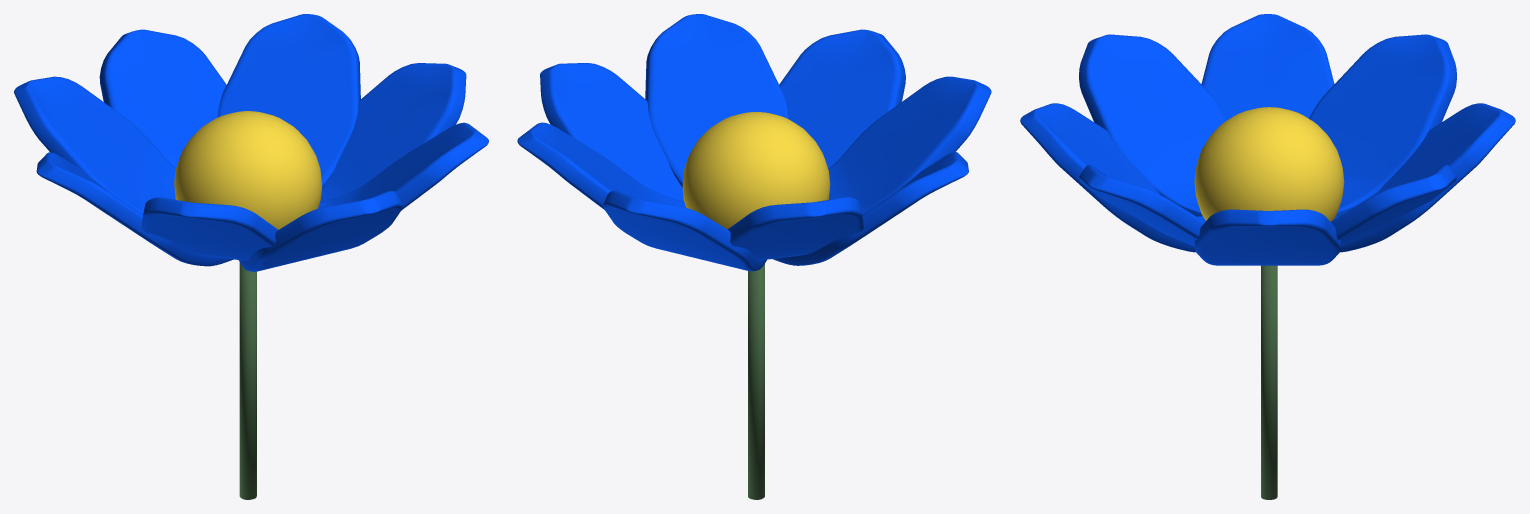
The model's file is flower3.glb.
3 renders of one model, left to right at view 1: azimuth 30°, elevation 25°; view 2: azimuth 150°, elevation 25°; view 3: azimuth 270°, elevation 25°, orthographic.
Parts seen in each view (by area): view 1: Cube.005, Sphere, Cube.007, Cube.003, Cube.001, Cube.004, Cube.006, Cube.008, Cube, Cube.002; view 2: Cube.008, Sphere, Cube.006, Cube.004, Cube.001, Cube.003, Cube.007, Cube.005, Cube, Cube.002; view 3: Cube.006, Cube.007, Sphere, Cube.002, Cube.001, Cube.003, Cube.004, Cube, Cube.008, Cube.005.
Boxes of the visible parts, left/top/right/bottom form: Cube.005: left=217, top=14, right=360, bottom=189; Sphere: left=174, top=111, right=322, bottom=229; Cube.007: left=14, top=76, right=175, bottom=214; Cube.003: left=99, top=29, right=226, bottom=167; Cube.001: left=320, top=63, right=466, bottom=201; Cube.004: left=238, top=191, right=403, bottom=271; Cube.006: left=142, top=197, right=277, bottom=260; Cube.008: left=318, top=122, right=488, bottom=210; Cube: left=239, top=262, right=256, bottom=499; Cube.002: left=36, top=152, right=233, bottom=266; Cube.008: left=645, top=14, right=788, bottom=187; Sphere: left=682, top=112, right=830, bottom=229; Cube.006: left=828, top=76, right=991, bottom=213; Cube.004: left=779, top=29, right=905, bottom=168; Cube.001: left=540, top=63, right=683, bottom=201; Cube.003: left=603, top=190, right=766, bottom=271; Cube.007: left=727, top=197, right=863, bottom=260; Cube.005: left=517, top=122, right=685, bottom=209; Cube: left=748, top=264, right=764, bottom=499; Cube.002: left=772, top=152, right=968, bottom=265; Cube.006: left=1079, top=34, right=1227, bottom=216; Cube.007: left=1309, top=34, right=1456, bottom=216; Sphere: left=1194, top=107, right=1344, bottom=221; Cube.002: left=1201, top=14, right=1334, bottom=119; Cube.001: left=1194, top=209, right=1341, bottom=265; Cube.003: left=1340, top=103, right=1515, bottom=252; Cube.004: left=1020, top=103, right=1195, bottom=252; Cube: left=1261, top=265, right=1277, bottom=499; Cube.008: left=1079, top=165, right=1205, bottom=246; Cube.005: left=1331, top=165, right=1456, bottom=246.
Size of the model in its own units: 0.5664 by 0.4942 by 0.5664.
